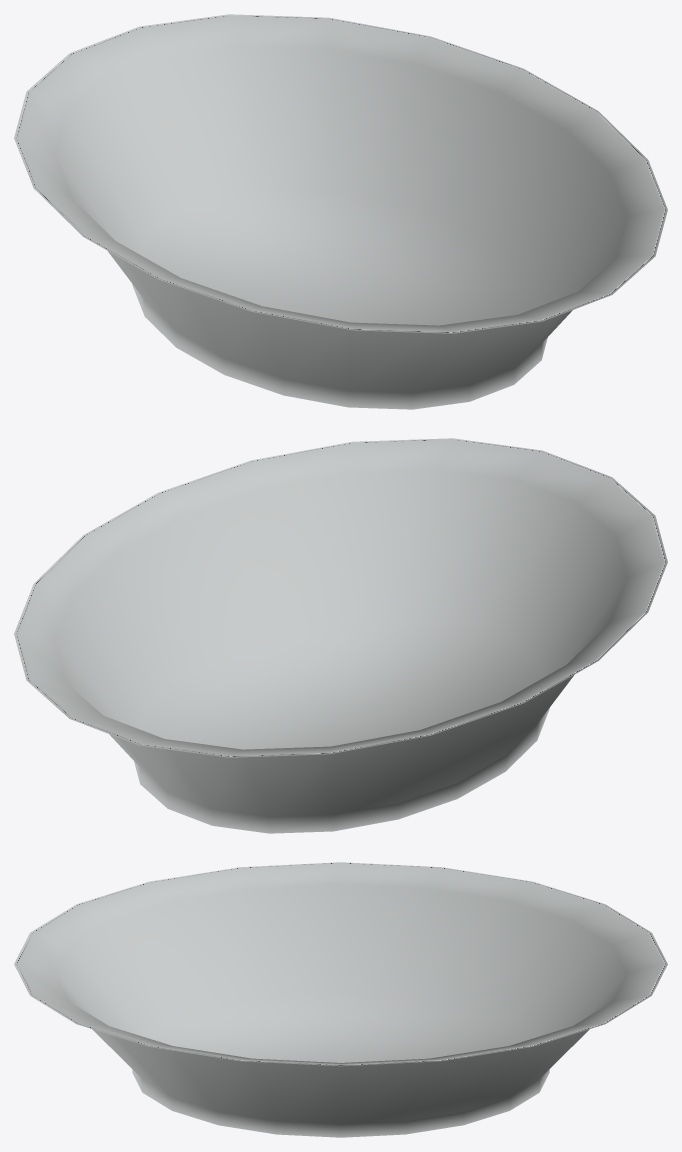
Rendered from obj_Object_BaciaGrande.fbx.
3 renders of one model, top to bottom at view 1: azimuth 30°, elevation 25°; view 2: azimuth 150°, elevation 25°; view 3: azimuth 270°, elevation 25°, orthographic. The views are drawn at different scales.
Parts seen in each view (by area): view 1: pCylinder37; view 2: pCylinder37; view 3: pCylinder37.
Boxes of the visible parts, x1,y1,x2,y2 form: pCylinder37: (14,14,667,409); pCylinder37: (14,438,667,833); pCylinder37: (14,862,667,1137).
Size of the model in its own units: 0.281 by 0.0696 by 0.3807.
Materials: 1 (1 with a texture image).
